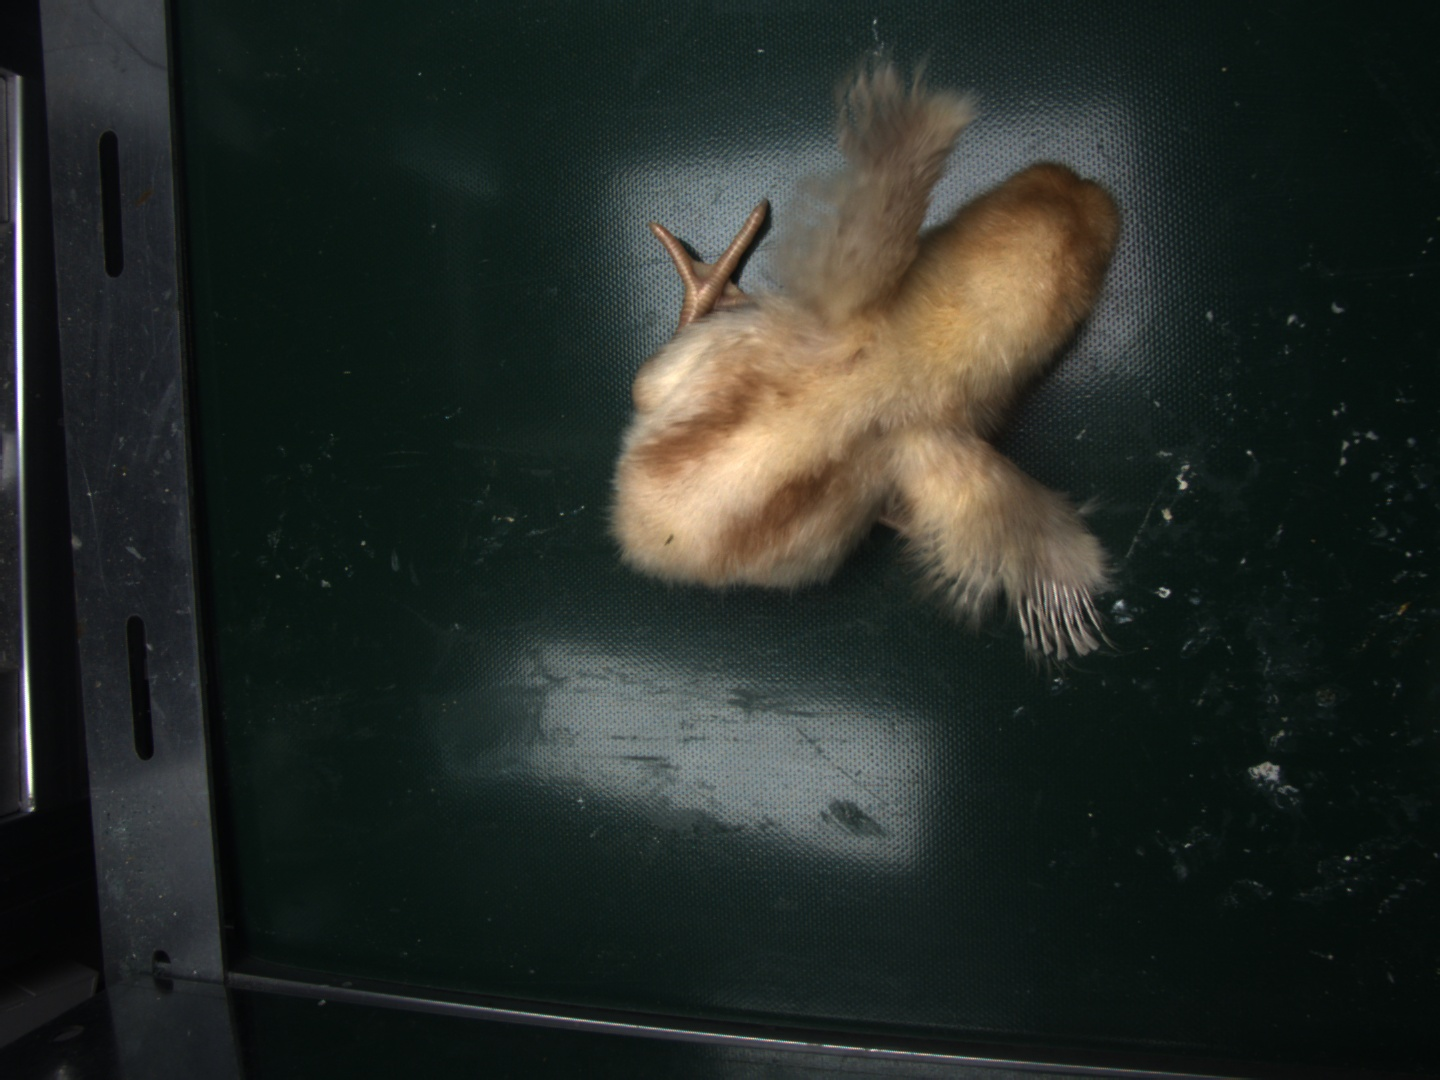female: (1019, 577, 1109, 659)
